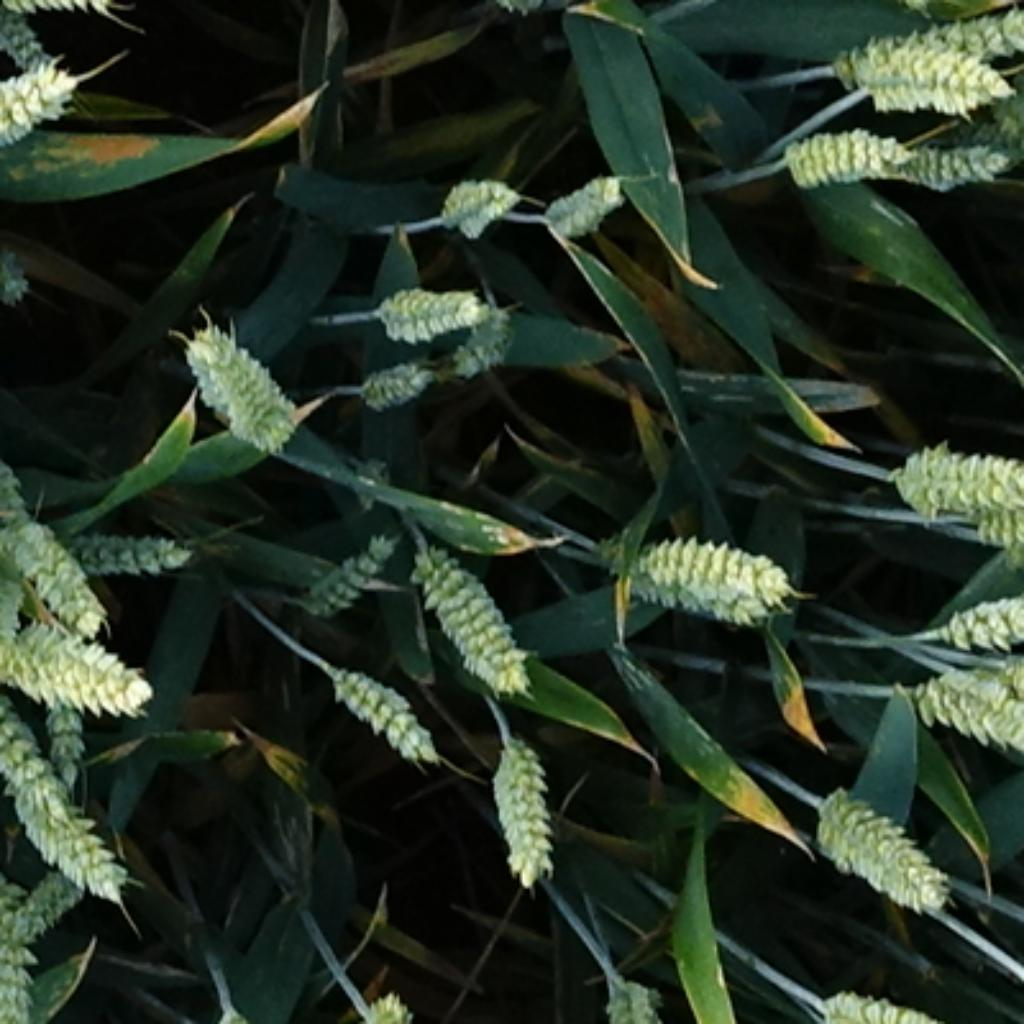0-0: (798, 768, 962, 908), (399, 524, 535, 686), (5, 757, 140, 916), (606, 514, 798, 619), (0, 642, 92, 852), (829, 10, 1021, 107), (176, 304, 309, 442), (839, 30, 1024, 115), (0, 604, 148, 706), (883, 424, 1021, 529), (312, 645, 437, 760), (0, 504, 110, 624), (898, 663, 1024, 765), (481, 721, 560, 878), (769, 125, 909, 202), (294, 517, 401, 611), (366, 273, 501, 340), (0, 48, 87, 151), (56, 514, 199, 576), (878, 133, 1021, 194), (903, 588, 1024, 655), (25, 678, 94, 788), (540, 158, 629, 232), (8, 863, 93, 940), (432, 161, 522, 230), (816, 982, 962, 1024), (0, 900, 50, 1022), (586, 952, 673, 1021), (450, 309, 522, 386), (355, 348, 442, 407), (345, 975, 422, 1024), (0, 537, 33, 650), (1, 0, 130, 23), (0, 14, 48, 70), (970, 509, 1024, 555)
